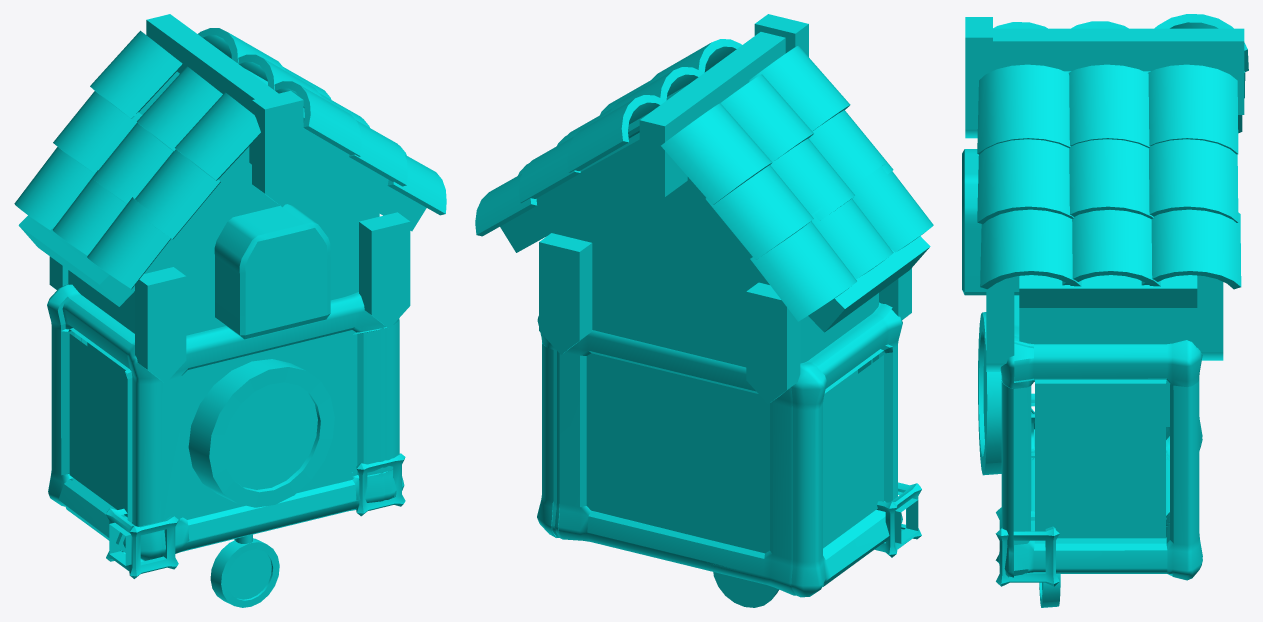
The model's file is ClockhouseJamesWen4-3.fbx.
The picture shows the model from 3 angles, left to right: view 1: azimuth 30°, elevation 25°; view 2: azimuth 150°, elevation 25°; view 3: azimuth 270°, elevation 25°; orthographic projection. The views are drawn at different scales.
Parts seen in each view (by area): view 1: Metal6; view 2: Metal6; view 3: Metal6.
Boxes of the visible parts, left/top/right/bottom form: Metal6: left=14, top=14, right=446, bottom=607; Metal6: left=475, top=14, right=933, bottom=607; Metal6: left=962, top=14, right=1248, bottom=607.
Size of the model in its own units: 2.25 by 3.32 by 1.5.
